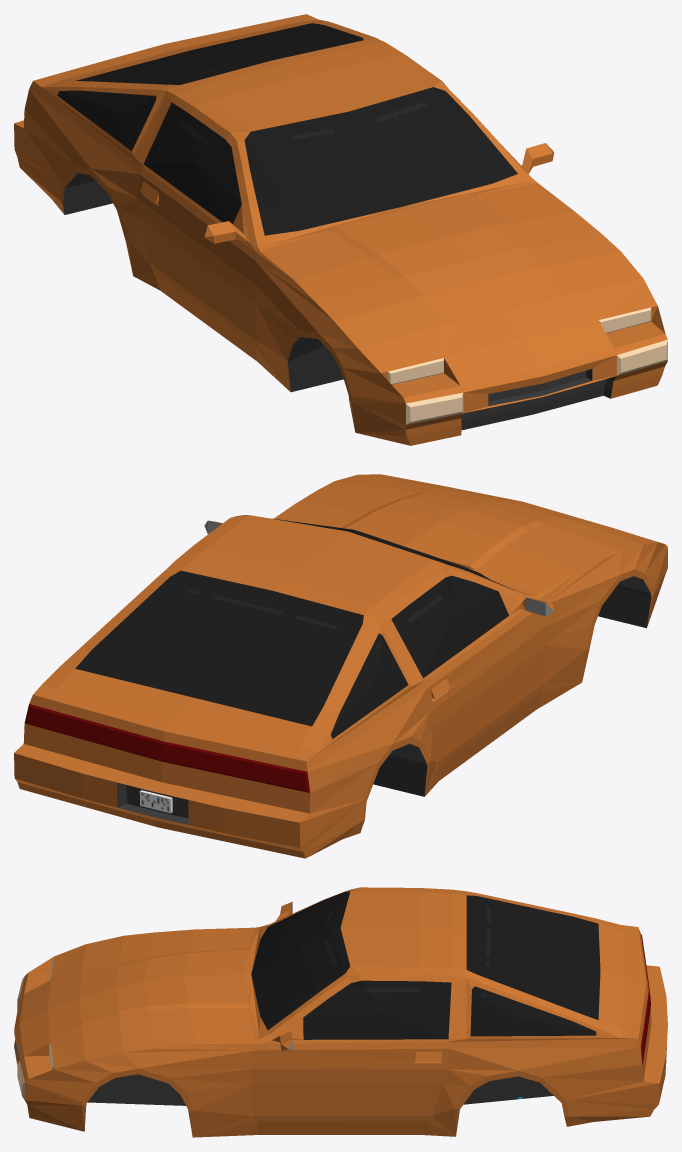
File: nissan 300zx.fbx
The picture shows the model from 3 angles, top to bottom: view 1: azimuth 30°, elevation 25°; view 2: azimuth 150°, elevation 25°; view 3: azimuth 270°, elevation 25°; orthographic projection. The views are drawn at different scales.
Visible parts, largest first — view 1: nissan 300zx; view 2: nissan 300zx; view 3: nissan 300zx.
Boxes of the visible parts, x1,y1,x2,y2 form: nissan 300zx: [14, 14, 667, 445]; nissan 300zx: [14, 474, 667, 858]; nissan 300zx: [14, 887, 667, 1137].
Bounding box in the file's own units: 3.36 × 1.66 × 6.51.
